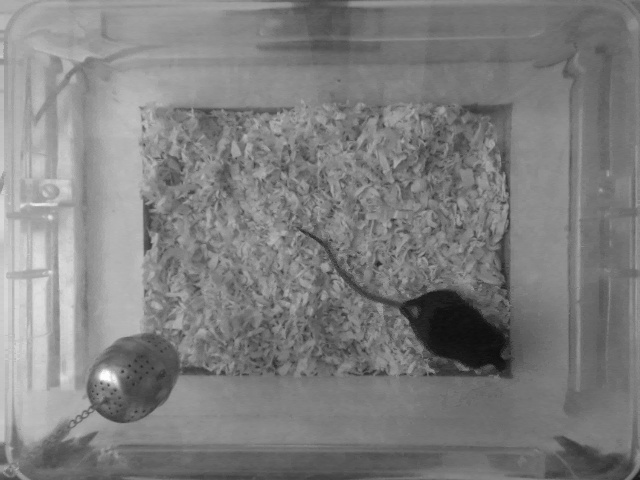mice: (294, 224, 510, 368)
